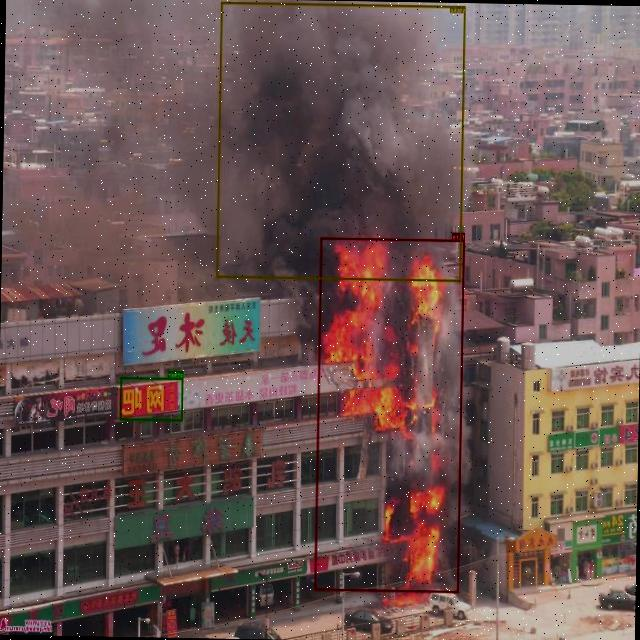fire: (314, 236, 464, 592)
smoke: (215, 2, 466, 282)
